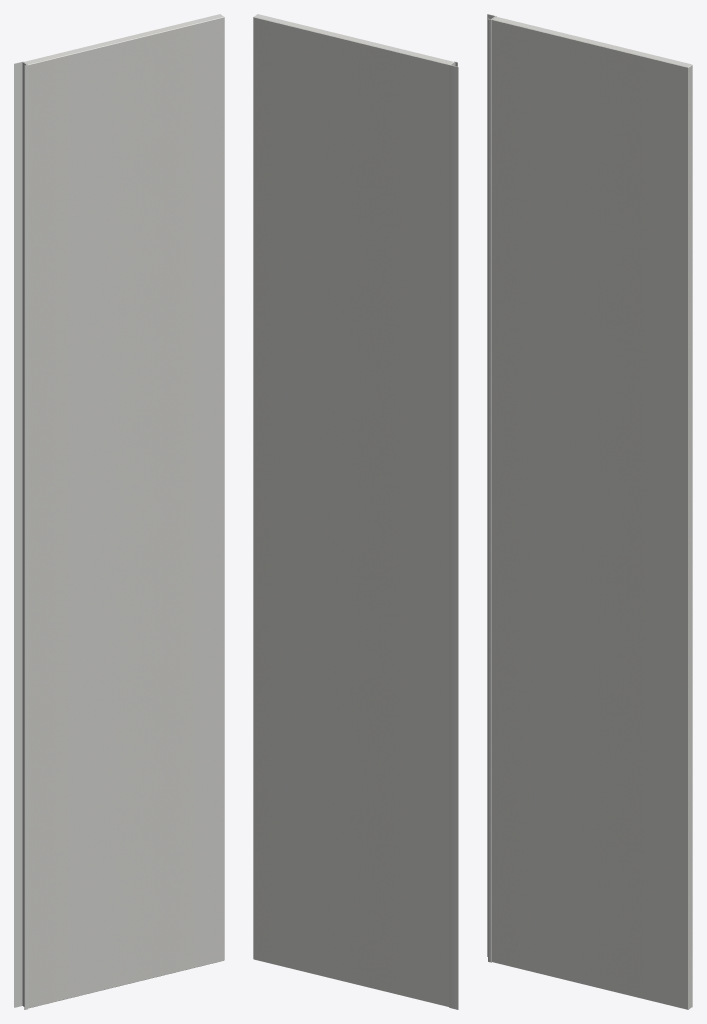
3 views of the same model, side by side, from view 1: azimuth 30°, elevation 25°; view 2: azimuth 150°, elevation 25°; view 3: azimuth 330°, elevation 25° (orthographic).
Parts seen in each view (by area): view 1: HM1002738; view 2: HM1002738; view 3: HM1002738.
Boxes of the visible parts, x1,y1,x2,y2 form: HM1002738: [14, 14, 224, 1009]; HM1002738: [253, 14, 458, 1009]; HM1002738: [487, 14, 692, 1009].
Size of the model in its own units: 0.495 by 2.17 by 0.0216.
2 materials, 2 textured.
